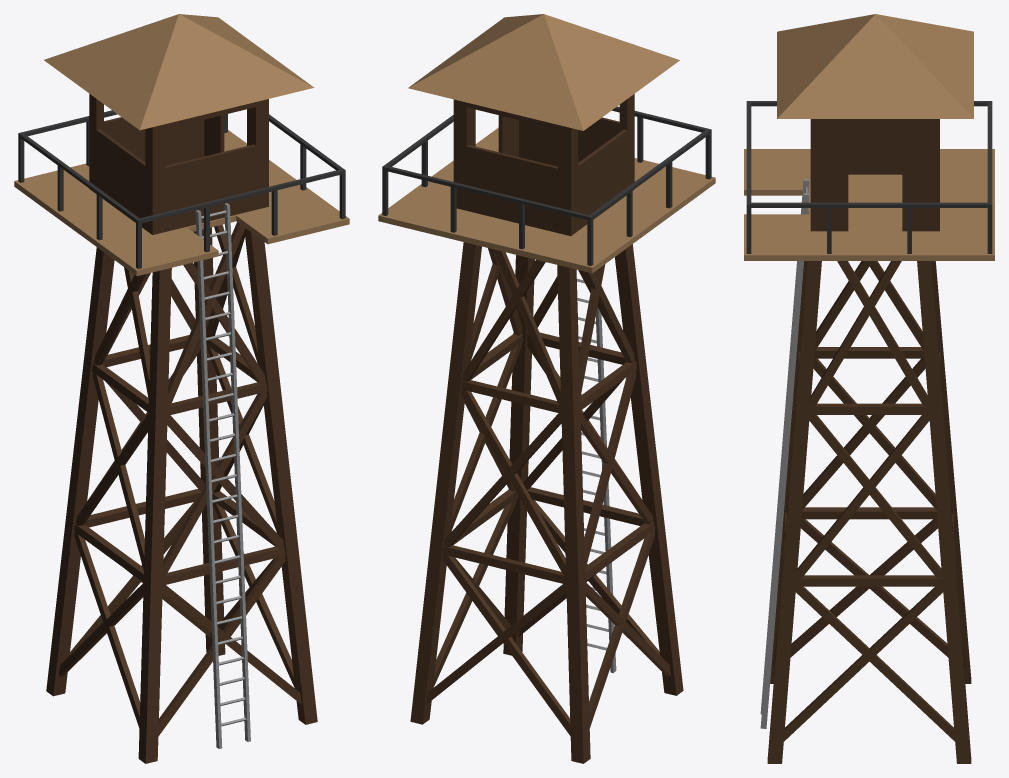
Rendered from WatchTower.fbx.
3 renders of one model, left to right at view 1: azimuth 30°, elevation 25°; view 2: azimuth 150°, elevation 25°; view 3: azimuth 270°, elevation 25°, orthographic. The views are drawn at different scales.
Visible parts, largest first — view 1: WatchTower; view 2: WatchTower; view 3: WatchTower.
Boxes of the visible parts, x1=… form: WatchTower: x1=14, y1=14, x2=349, y2=763; WatchTower: x1=378, y1=14, x2=715, y2=763; WatchTower: x1=744, y1=14, x2=994, y2=763.
Bounding box in the file's own units: 8.46 × 8.43 × 26.21.
